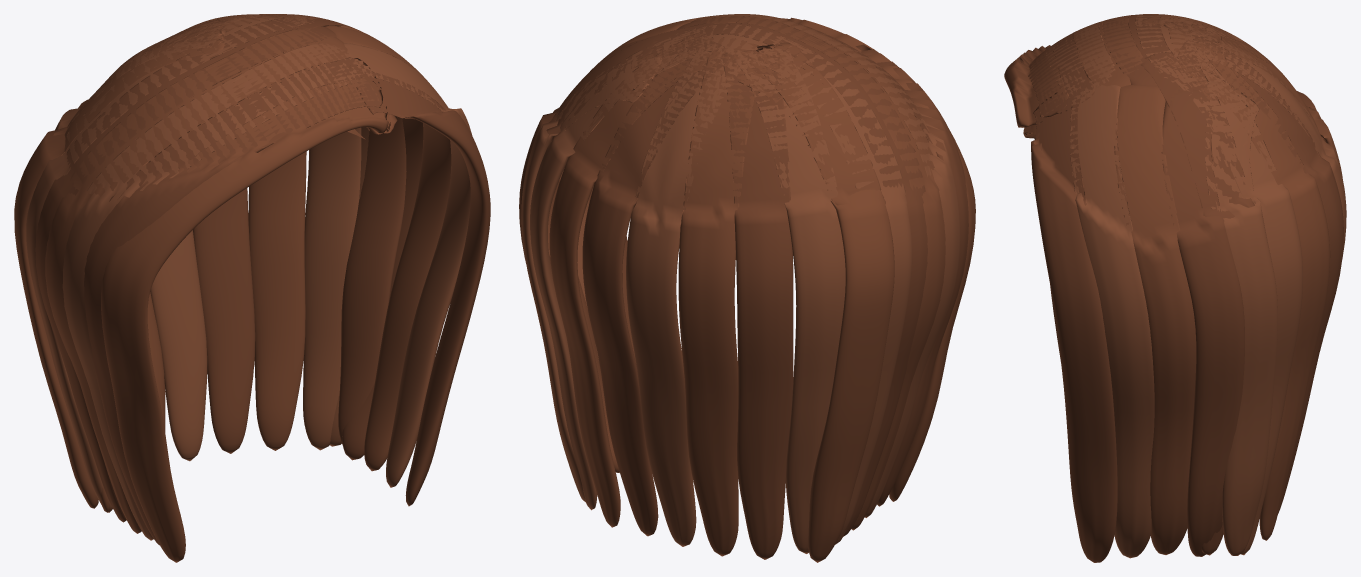
The model's file is Feminine-straight-headband260-hair.glb.
3 renders of one model, left to right at view 1: azimuth 30°, elevation 25°; view 2: azimuth 150°, elevation 25°; view 3: azimuth 270°, elevation 25°, orthographic. The views are drawn at different scales.
Parts seen in each view (by area): view 1: 226 hair / Hair / sculpted 0.001, 226 hair / Hair / sculpted 1.002, 226 hair / Hair / sculpted 2.001; view 2: 226 hair / Hair / sculpted 0.001, 226 hair / Hair / sculpted 2.001, 226 hair / Hair / sculpted 1.002; view 3: 226 hair / Hair / sculpted 1.002, 226 hair / Hair / sculpted 2.001, 226 hair / Hair / sculpted 0.001.
Boxes of the visible parts, left/top/right/bottom form: 226 hair / Hair / sculpted 0.001: left=14, top=14, right=451, bottom=562; 226 hair / Hair / sculpted 1.002: left=35, top=14, right=490, bottom=545; 226 hair / Hair / sculpted 2.001: left=26, top=14, right=472, bottom=540; 226 hair / Hair / sculpted 0.001: left=548, top=14, right=975, bottom=562; 226 hair / Hair / sculpted 2.001: left=521, top=14, right=960, bottom=553; 226 hair / Hair / sculpted 1.002: left=519, top=14, right=968, bottom=559; 226 hair / Hair / sculpted 1.002: left=1020, top=14, right=1343, bottom=562; 226 hair / Hair / sculpted 2.001: left=1046, top=14, right=1346, bottom=558; 226 hair / Hair / sculpted 0.001: left=1004, top=14, right=1342, bottom=554.
Size of the model in its own units: 1.02 by 1.17 by 0.7721.
